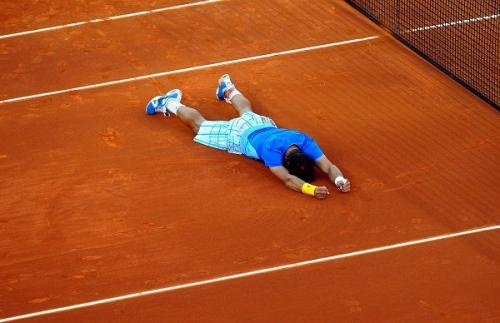falling: (139, 64, 362, 200)
